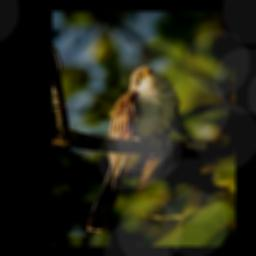Cuckoo: (87, 65, 179, 232)
